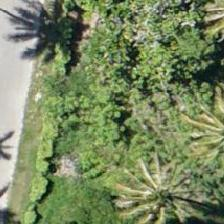coconut_tree: (105, 147, 195, 223)
